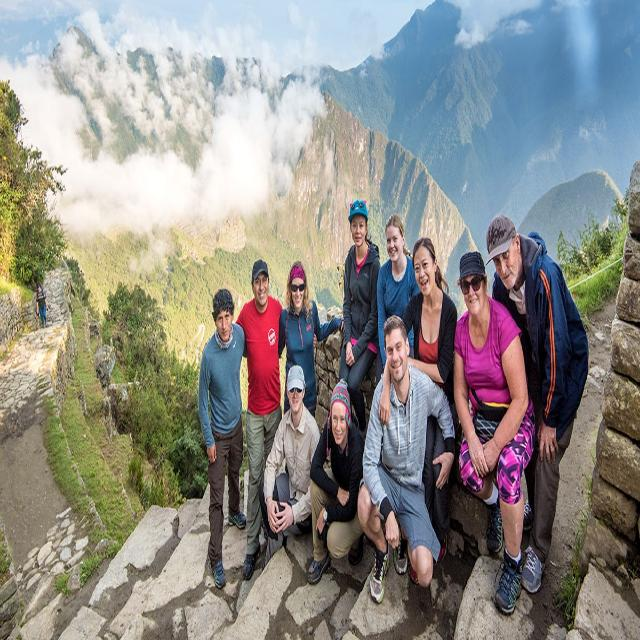body: (479, 212, 590, 596), (451, 248, 536, 617), (356, 312, 458, 606), (233, 258, 318, 582), (378, 236, 458, 568), (197, 288, 247, 591), (257, 364, 321, 567), (306, 377, 367, 586), (277, 258, 346, 420), (337, 198, 382, 441), (376, 212, 422, 375), (35, 280, 50, 330)
